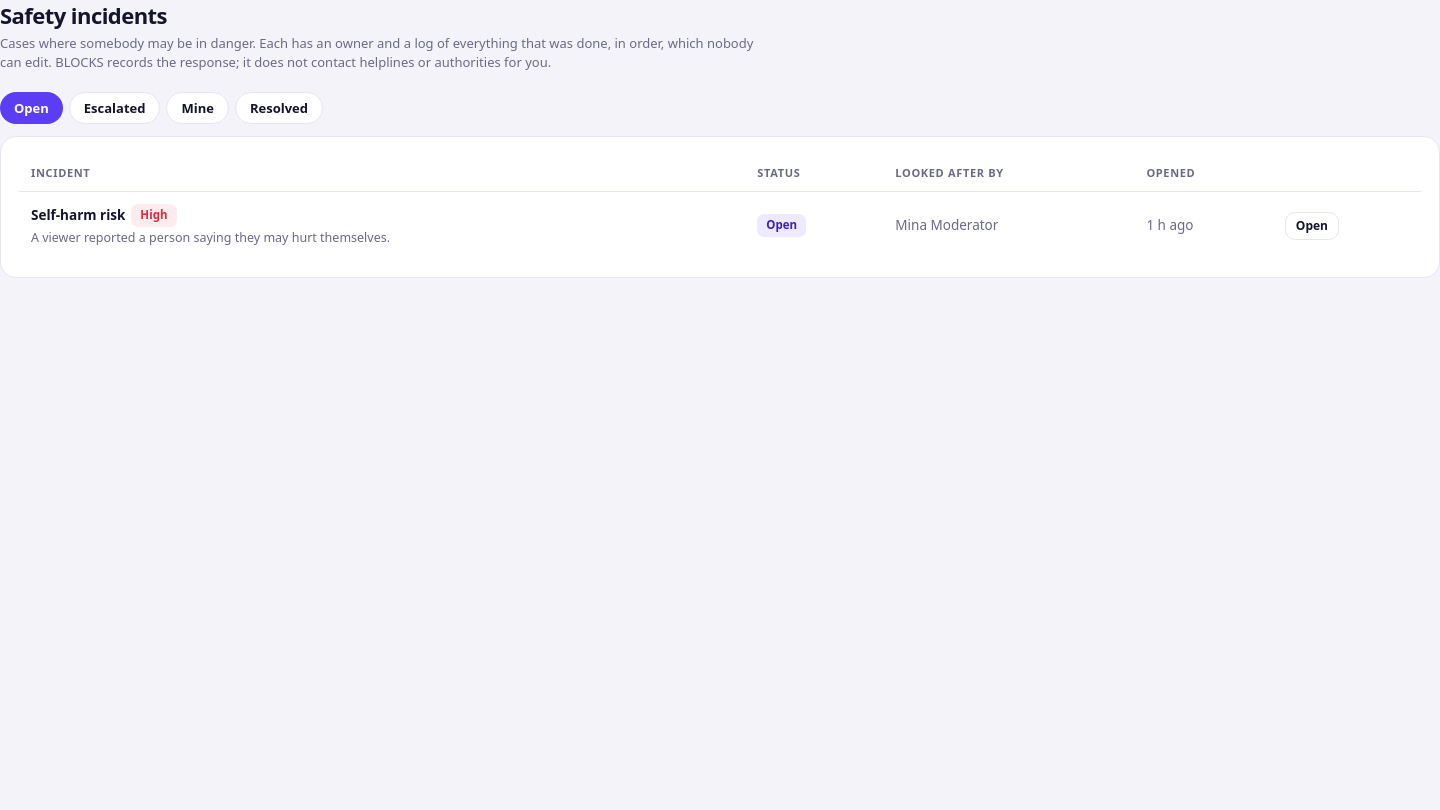
safety incidents › shows the log in order, with who did each thing
The image size is (1440, 810).
Click the button with aria-label "Open Self-harm risk incident": (1312, 226) [1285,212,1339,240]
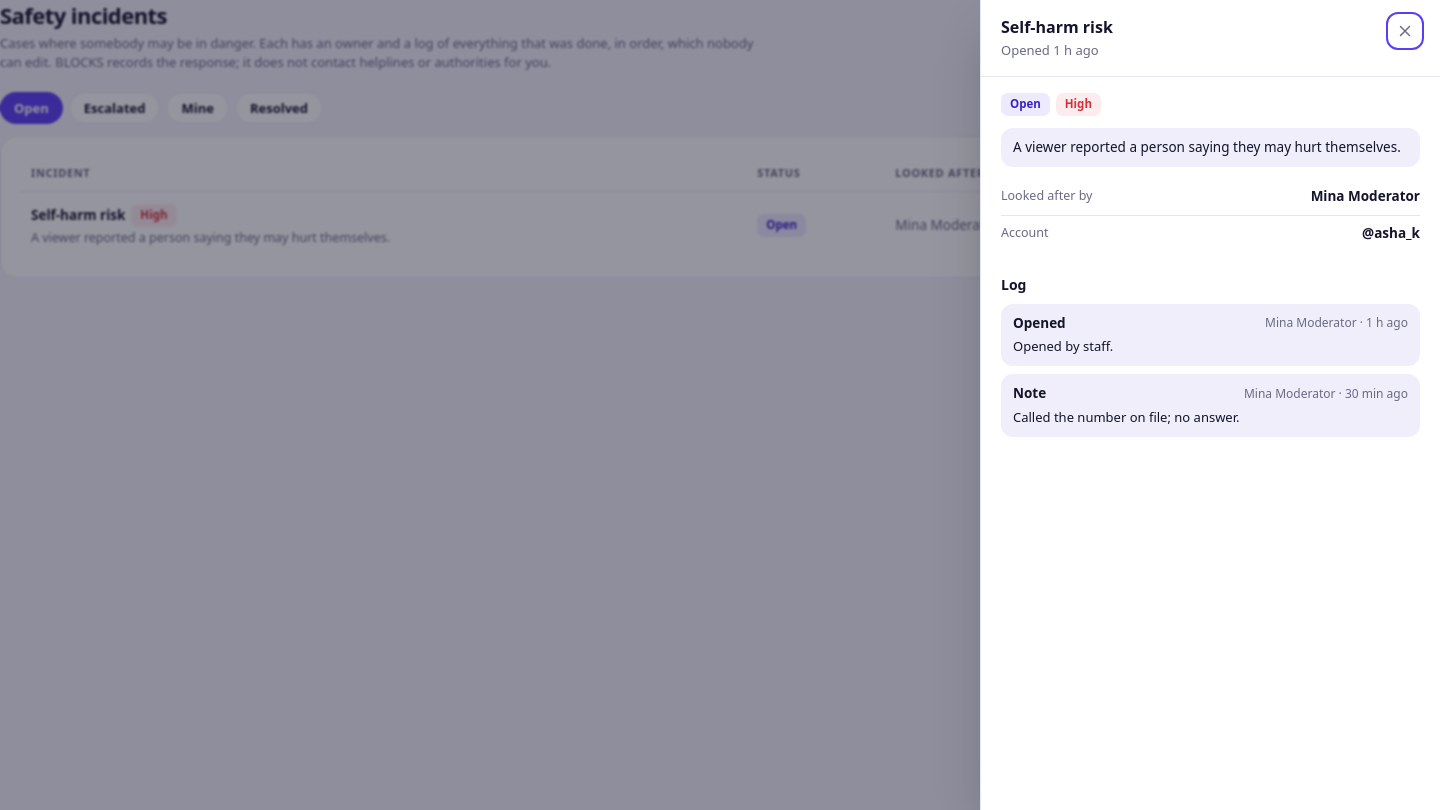
Now the dialog "Self-harm risk" is shown, box [980,0,1439,809]
Now the list item "Opened Mina Moderator · 1 h ago Opened by staff." is shown, box [1001,304,1420,366]
Now the list item that starts with "Note" shows "Called the number on file; no answer.", box [1013,408,1240,426]
